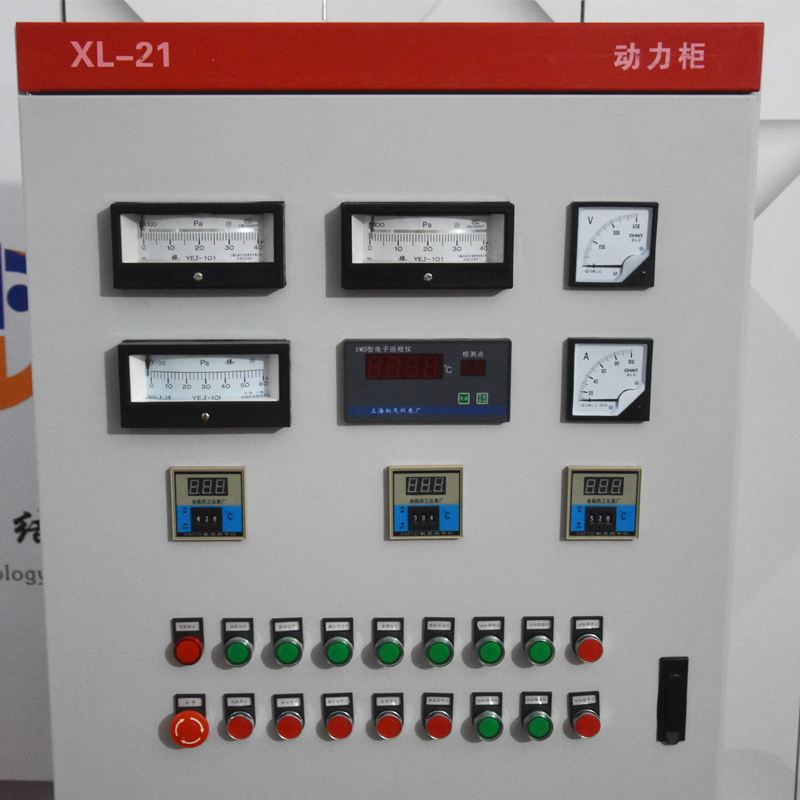pointer: (572, 201, 651, 285), (570, 338, 650, 418)
